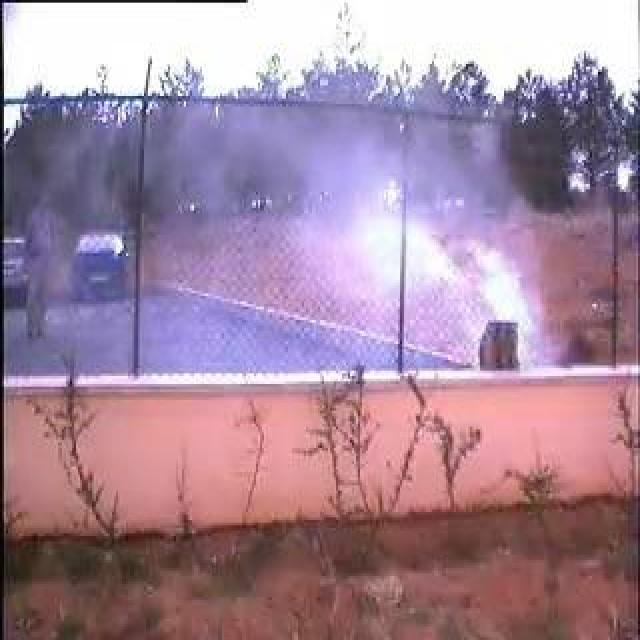Smoke: (250, 117, 540, 366)
